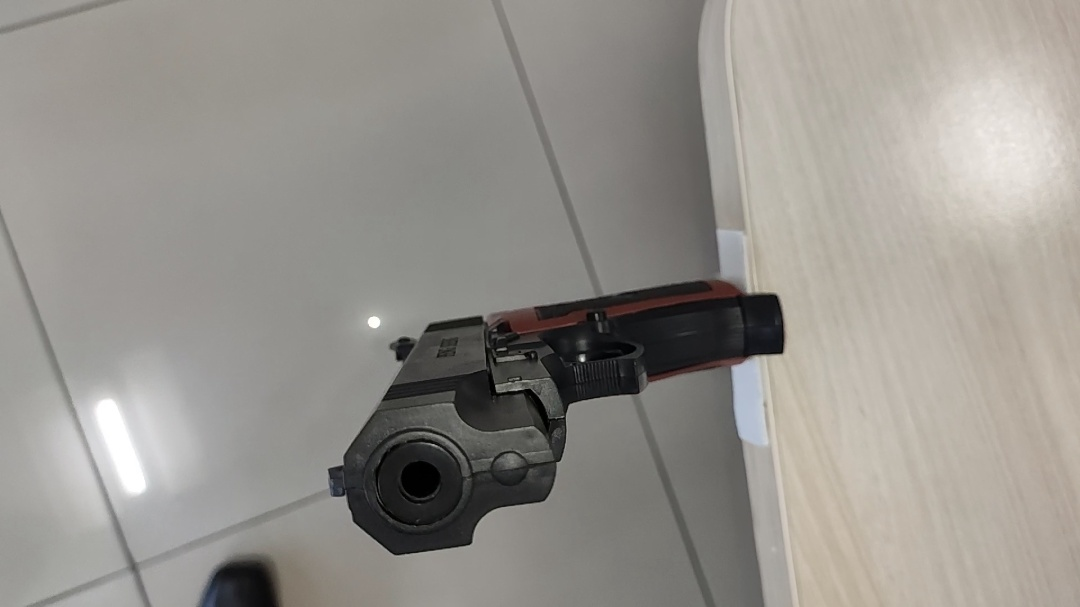gun: (385, 201, 410, 246)
